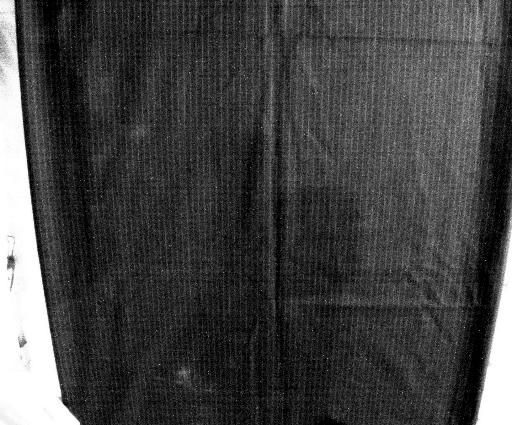fabric_perfect: (0, 1, 512, 425)
